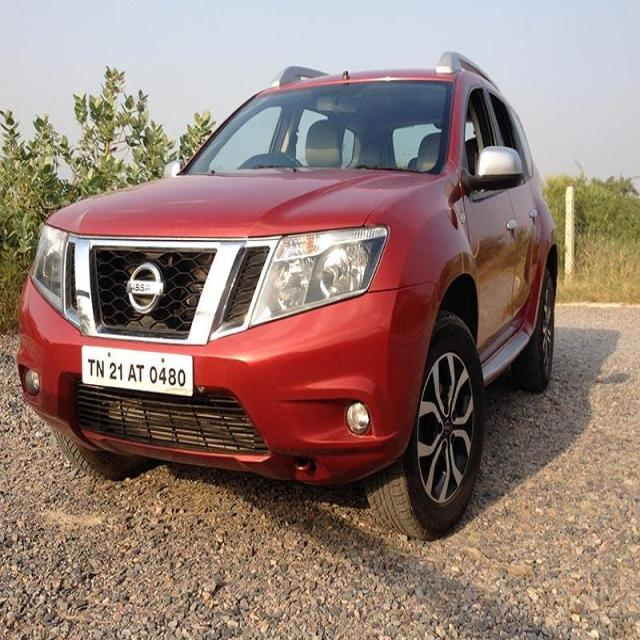number_plate: (82, 346, 195, 392)
